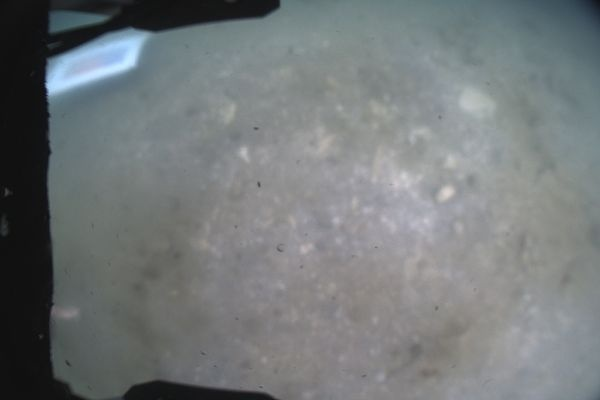bin: (48, 34, 150, 94)
bin_bleue: (103, 50, 122, 66)
bin_rouge: (67, 58, 99, 74)
